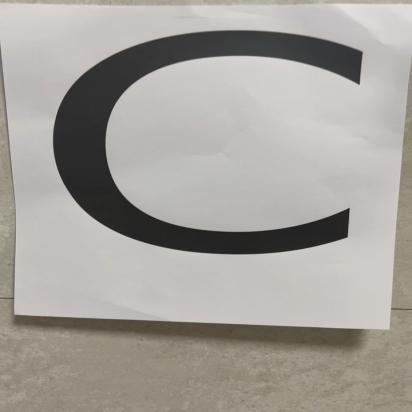seat: (13, 10, 377, 322)
